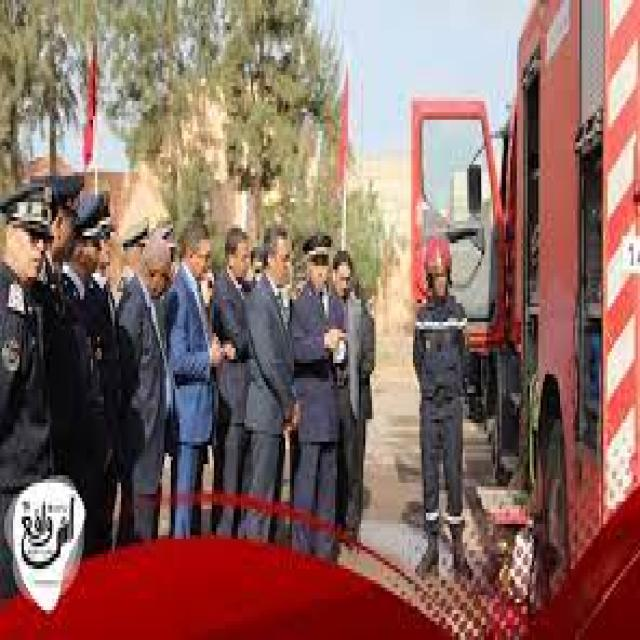pompier: (412, 6, 636, 534)
